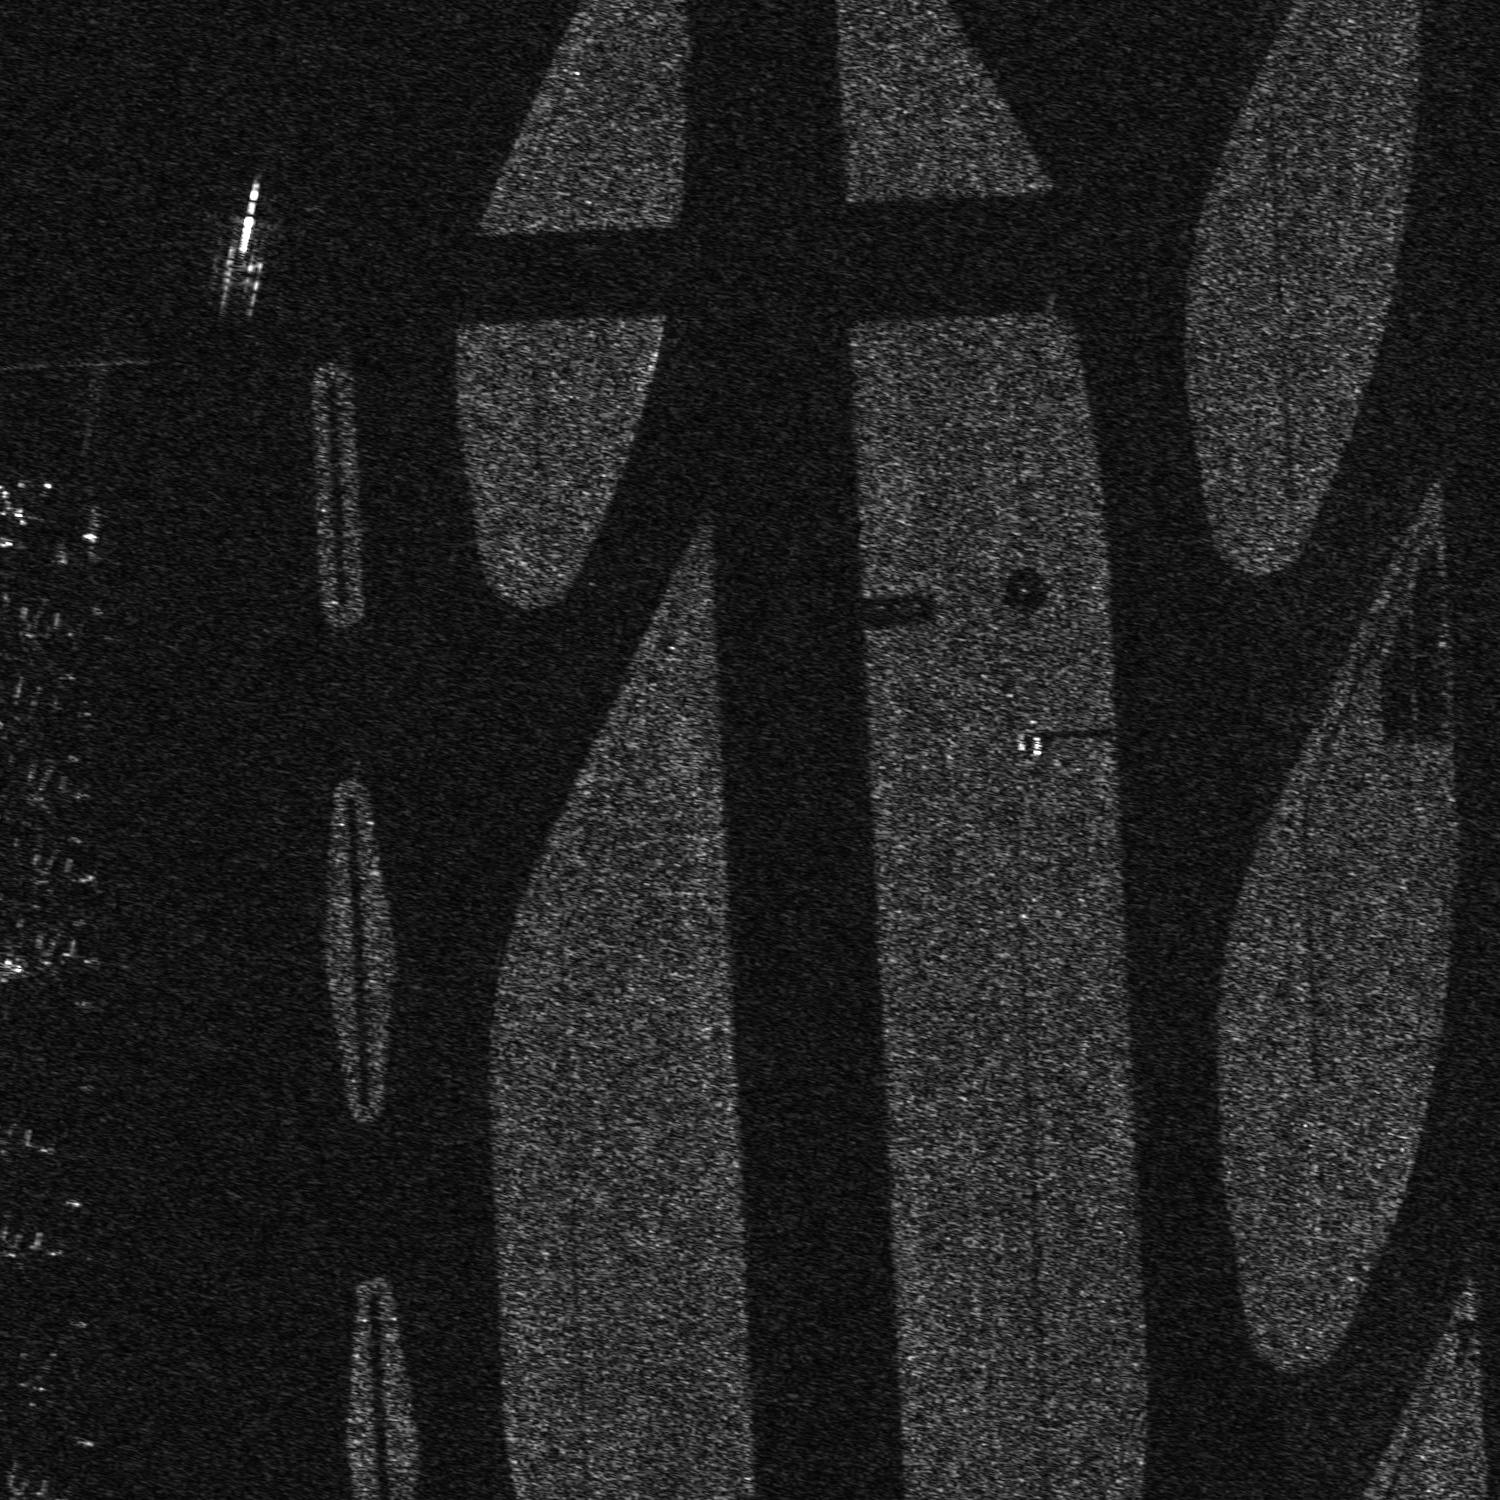A220: (36, 935, 133, 1010), (12, 591, 93, 679), (25, 848, 109, 926)
